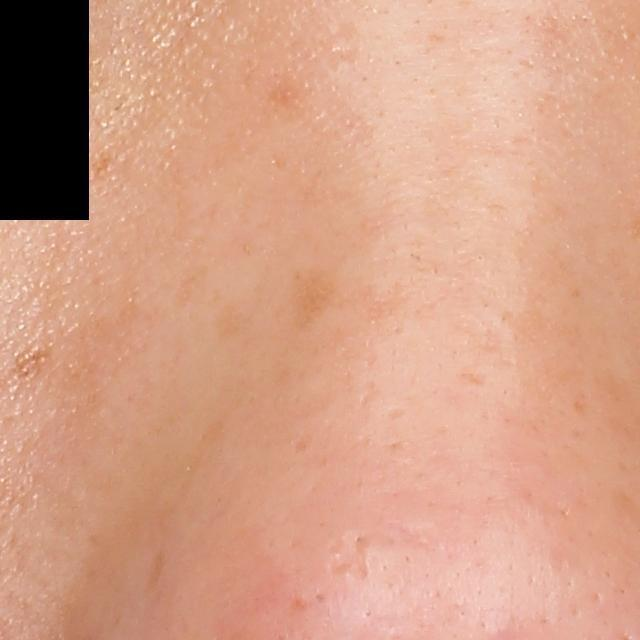atrophic_scar: (325, 526, 379, 589)
melasma: (285, 262, 337, 341), (206, 297, 254, 346), (12, 344, 56, 385), (85, 153, 113, 180)
